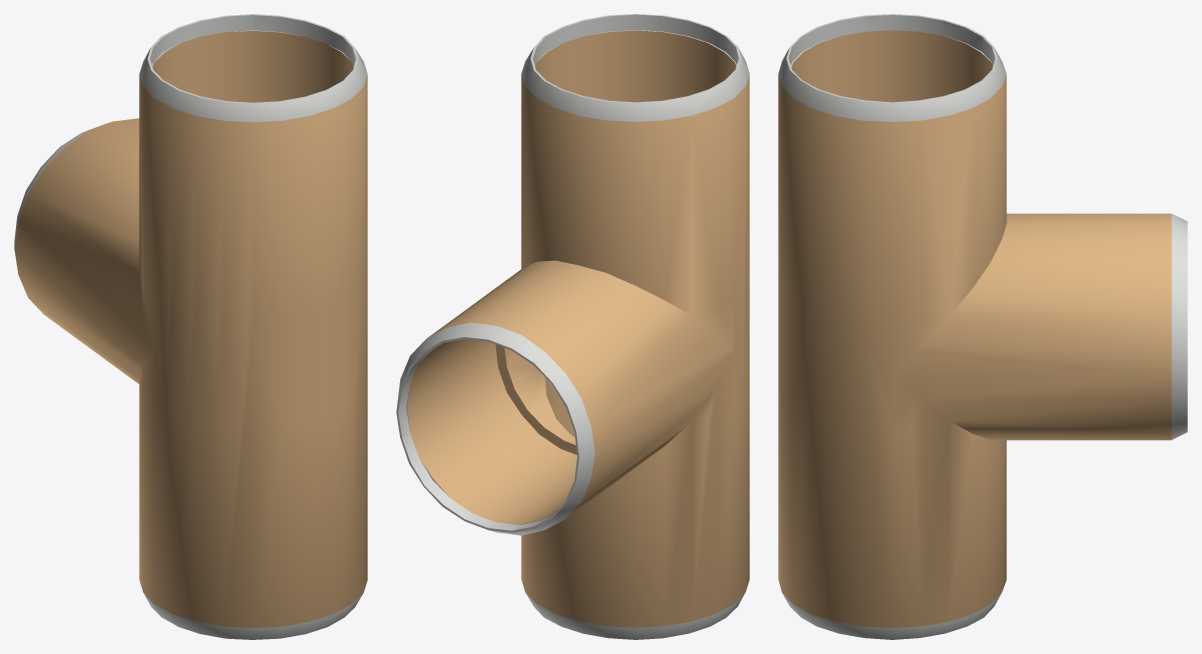
The model's file is slab_pipes_supply__water_heater-garage_gas_tank+garage_hybrid_and_plumbing-copper.glb.
3 renders of one model, left to right at view 1: azimuth 30°, elevation 25°; view 2: azimuth 150°, elevation 25°; view 3: azimuth 270°, elevation 25°, orthographic.
Visible parts, largest first — view 1: fit_tee_pipe_supply_cold_wh_hybrid__copper; view 2: fit_tee_pipe_supply_cold_wh_hybrid__copper; view 3: fit_tee_pipe_supply_cold_wh_hybrid__copper.
Boxes of the visible parts, x1,y1,x2,y2 form: fit_tee_pipe_supply_cold_wh_hybrid__copper: (14,14,367,639); fit_tee_pipe_supply_cold_wh_hybrid__copper: (396,14,749,639); fit_tee_pipe_supply_cold_wh_hybrid__copper: (778,14,1187,639).
Bounding box in the file's own units: 0.0247 × 0.064 × 0.0442.
